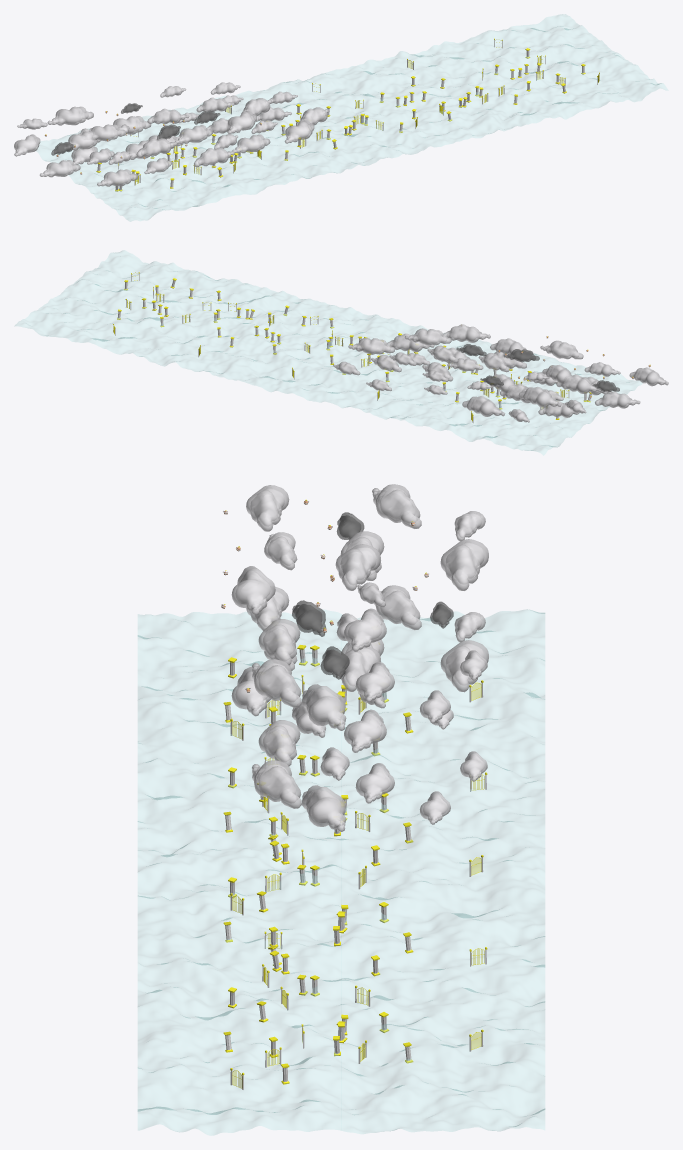
The model's file is Decor lvl13.fbx.
3 views of the same model, one above another, from view 1: azimuth 30°, elevation 25°; view 2: azimuth 150°, elevation 25°; view 3: azimuth 270°, elevation 25° (orthographic). The views are drawn at different scales.
Visible parts, largest first — view 1: Fon1, Fon3, Fon2; view 2: Fon1, Fon3, Fon2; view 3: Fon1, Fon3, Fon2.
Part boxes in pixels (x1=…): Fon1: x1=36, y1=14, x2=668, y2=221; Fon3: x1=14, y1=82, x2=271, y2=177; Fon2: x1=71, y1=91, x2=328, y2=186; Fon1: x1=15, y1=250, x2=642, y2=455; Fon3: x1=389, y1=324, x2=668, y2=413; Fon2: x1=333, y1=333, x2=611, y2=422; Fon1: x1=137, y1=609, x2=545, y2=1135; Fon3: x1=221, y1=484, x2=488, y2=730; Fon2: x1=223, y1=525, x2=488, y2=831.
Size of the model in its own units: 88366 by 7718 by 26633.
